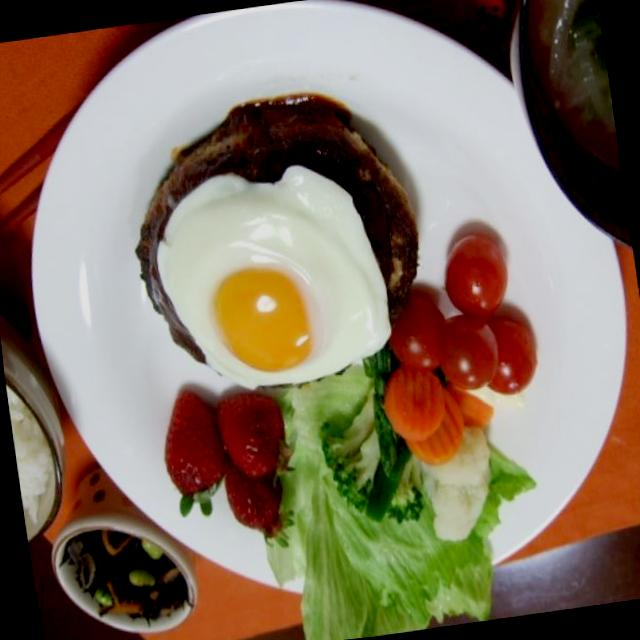Egg: (148, 154, 393, 406)
Green Salad: (261, 388, 508, 640)
Strawberry: (153, 384, 301, 550)
